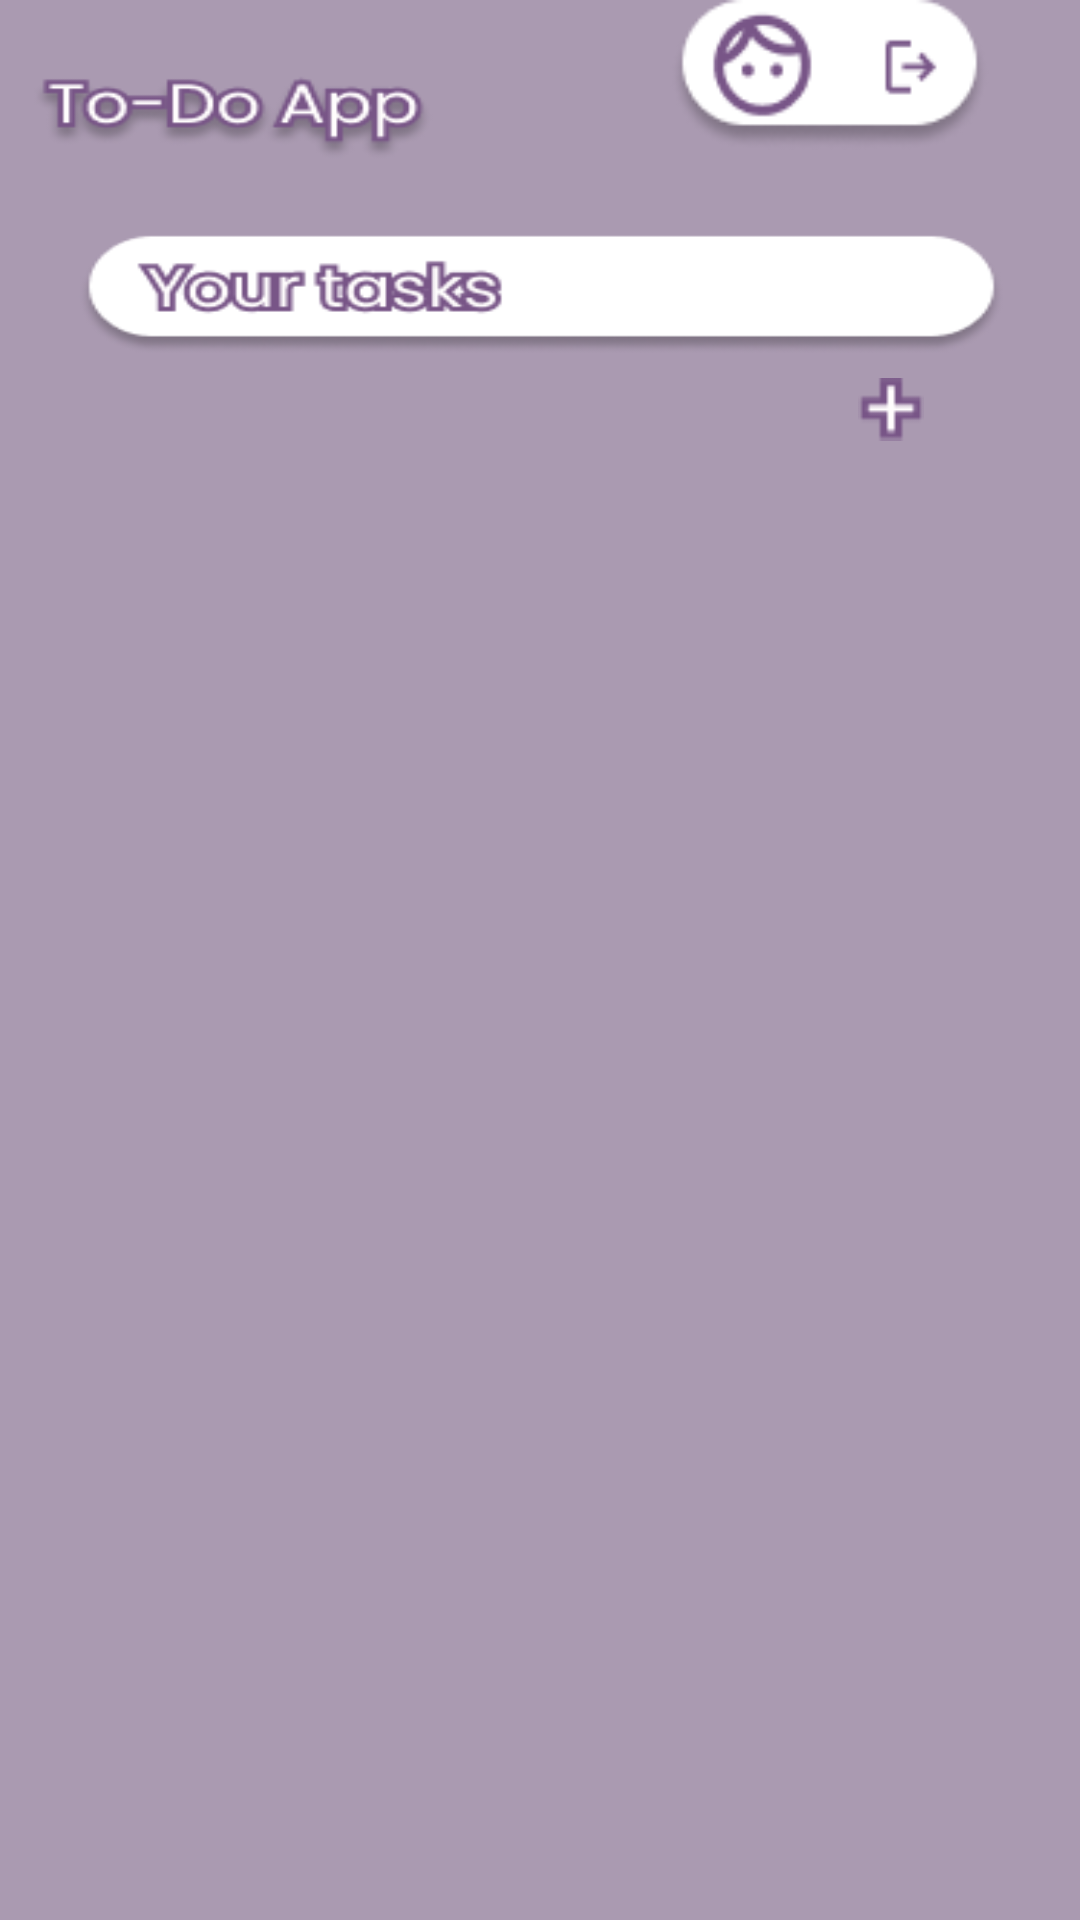

Icon bounding boxes for this 1080 × 1920 phone screenshot, format rect(x1, y1, x2, y2):
Кнопка plus: rect(861, 378, 921, 441)
